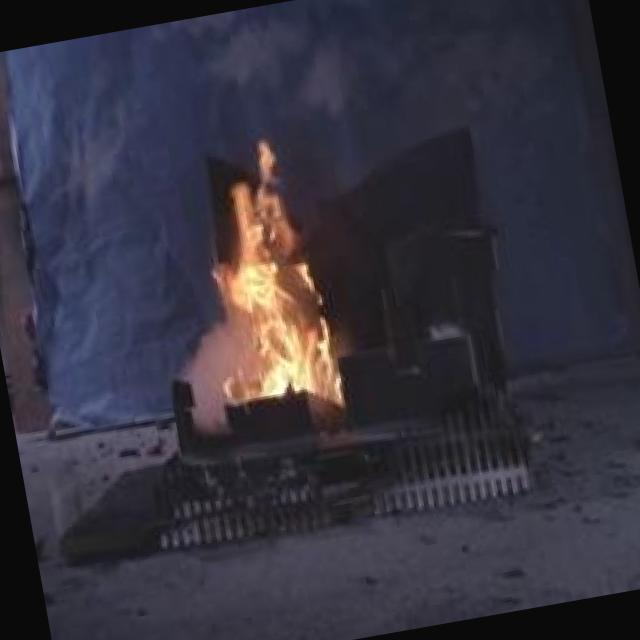fire: (154, 126, 362, 437)
